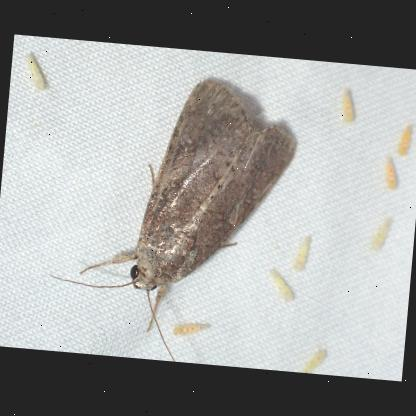Fall Armyworm Moth: (41, 63, 306, 371)
